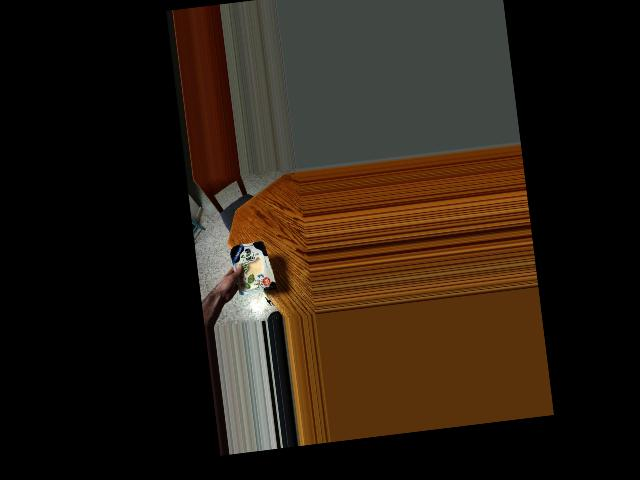cheese: (226, 233, 277, 301)
